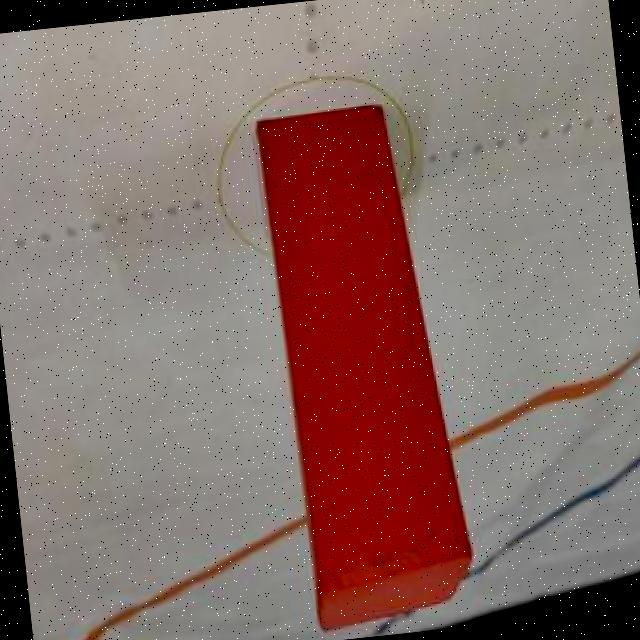redbox: (251, 97, 478, 636)
